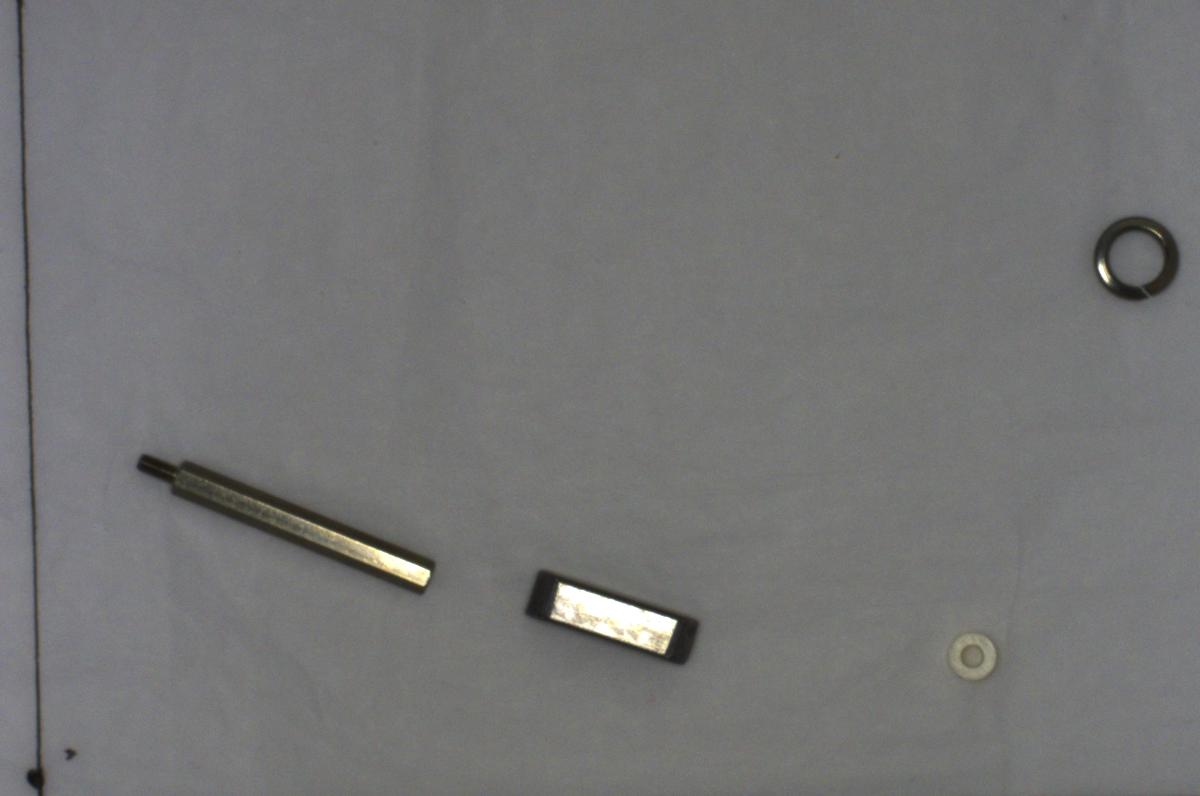Hexagonal steel column: (130, 442, 444, 602)
Keybar: (519, 555, 710, 667)
Plastic cushion pillar: (940, 625, 1005, 683)
Spring washer: (1092, 208, 1186, 303)
